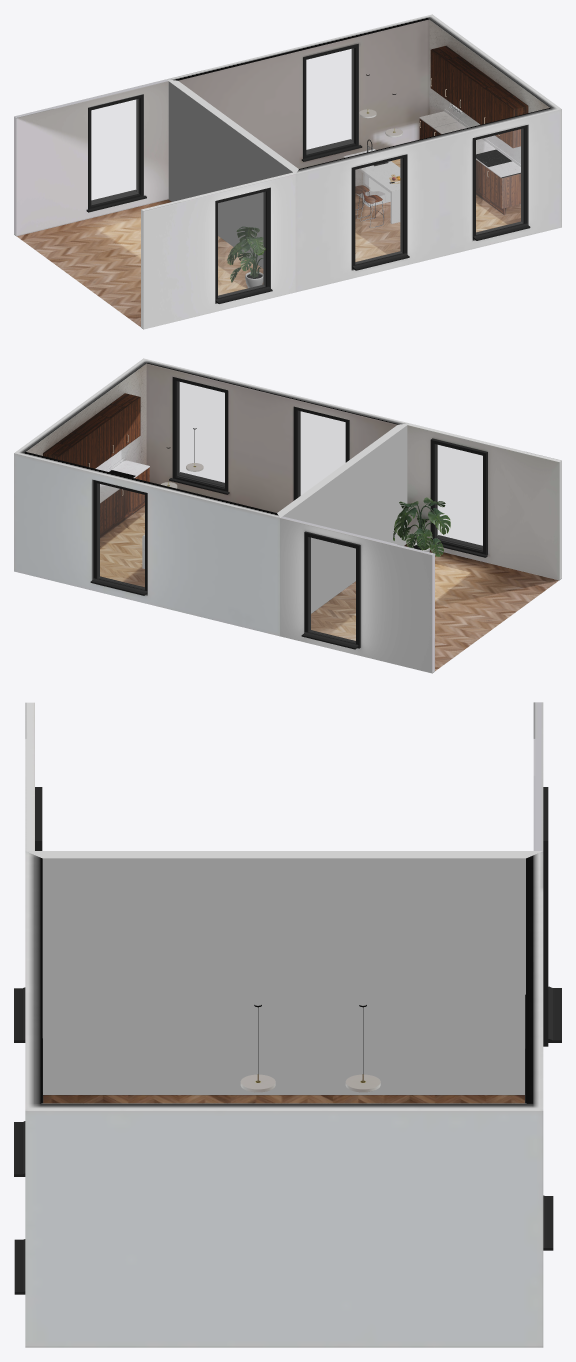
The model's file is Kitchen_rebaked-v1.glb.
The picture shows the model from 3 angles, top to bottom: view 1: azimuth 30°, elevation 25°; view 2: azimuth 150°, elevation 25°; view 3: azimuth 270°, elevation 25°; orthographic projection. The views are drawn at different scales.
Parts seen in each view (by area): view 1: Room_Baked_Baked, Room.002_Baked_Baked, Room.001_Baked_Baked, Floor_Baked, Separating_wall, Glass.003, Glass.001, Glass.004, Glass, Glass.002, Cabinet5_Door.001_Baked, Wall.001_Baked (+11 smaller); view 2: Room_Baked_Baked, Room.001_Baked_Baked, Room.002_Baked_Baked, Floor_Baked, Separating_wall, Glass.003, Glass.004, Glass.001, Glass.002, Glass, Wall.001_Baked, Cabinet5_Door.001_Baked (+9 smaller); view 3: Room_Baked_Baked, Separating_wall, Floor_Baked, Window.003, Room.001_Baked_Baked, Room.002_Baked_Baked, Window.002.
Boxes of the visible parts, x1,y1,x2,y2 form: Room_Baked_Baked: [167, 14, 561, 292]; Room.002_Baked_Baked: [141, 172, 295, 329]; Room.001_Baked_Baked: [14, 79, 168, 236]; Floor_Baked: [17, 159, 520, 326]; Separating_wall: [167, 79, 298, 268]; Glass.003: [91, 99, 138, 204]; Glass.001: [476, 129, 523, 234]; Glass.004: [306, 48, 353, 153]; Glass: [355, 159, 402, 263]; Glass.002: [218, 192, 265, 297]; Cabinet5_Door.001_Baked: [430, 49, 513, 148]; Wall.001_Baked: [429, 19, 549, 204]; Room_Baked_Baked: [14, 358, 408, 636]; Room.001_Baked_Baked: [280, 516, 434, 673]; Room.002_Baked_Baked: [407, 423, 561, 580]; Floor_Baked: [100, 505, 558, 670]; Separating_wall: [277, 423, 409, 613]; Glass.003: [308, 537, 355, 642]; Glass.004: [97, 484, 144, 589]; Glass.001: [177, 382, 224, 487]; Glass.002: [435, 444, 482, 549]; Glass: [298, 411, 345, 496]; Wall.001_Baked: [26, 363, 146, 471]; Cabinet5_Door.001_Baked: [57, 397, 140, 468]; Room_Baked_Baked: [25, 851, 543, 1347]; Separating_wall: [25, 851, 542, 1094]; Floor_Baked: [43, 1095, 524, 1103]; Window.003: [543, 787, 561, 1046]; Room.001_Baked_Baked: [533, 702, 543, 850]; Room.002_Baked_Baked: [25, 702, 34, 850]; Window.002: [14, 787, 42, 1042].
Size of the model in its own units: 10 by 2.71 by 5.67.
Materials: 47 (29 with a texture image).
